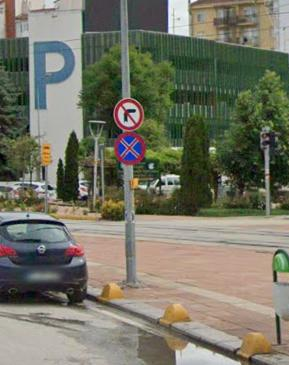rightturnsareforbidden: (114, 99, 145, 130)
